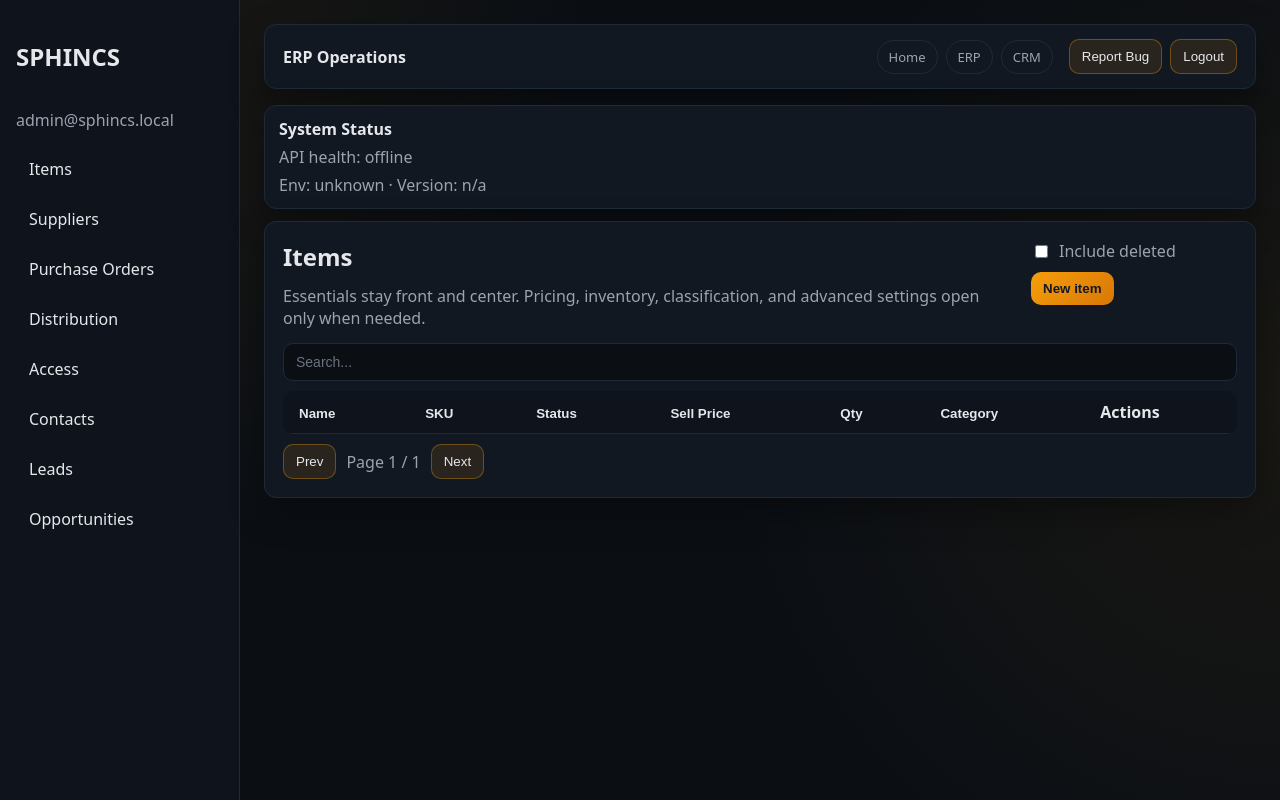
Test: ERP RootApp › clears the shared session on logout
The width and height of the screenshot is (1280, 800).
Expected: the heading "SPHINCS" is shown, [16,40,120,73]
Click the button "Logout" at [1204, 56], box [1170,39,1237,74]
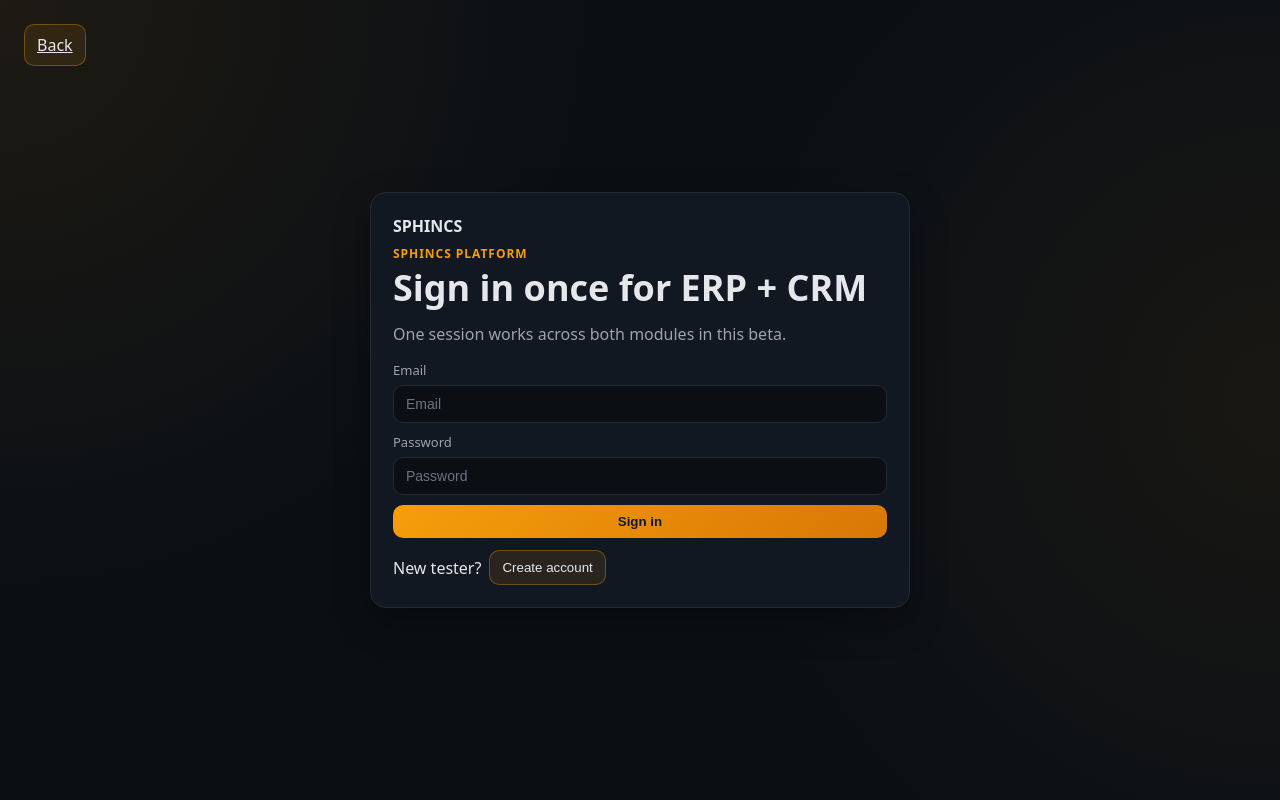
Expected: the heading "Sign in once for ERP + CRM" is shown, [393,268,887,307]
